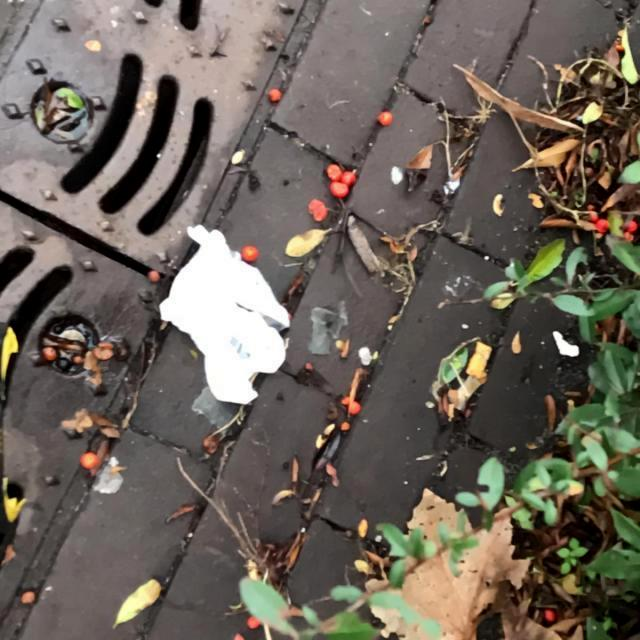Paper: (158, 222, 292, 406)
